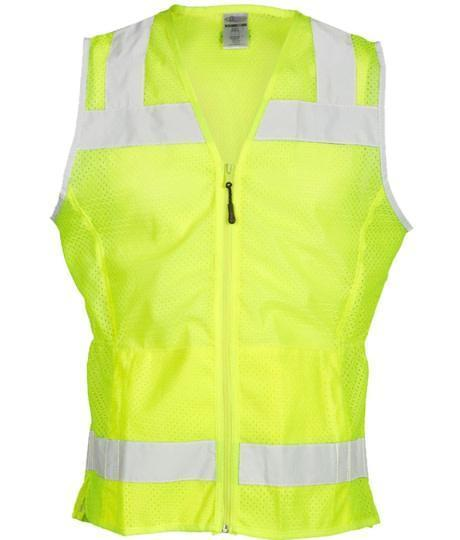vest: (50, 0, 413, 538)
